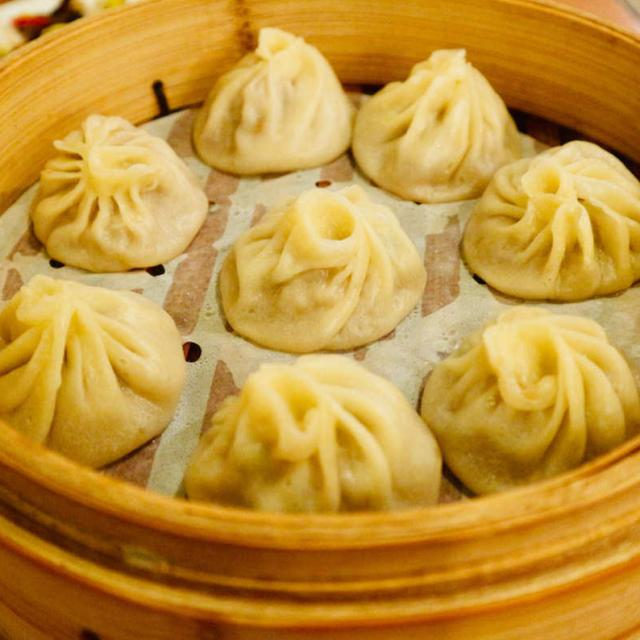momos: (42, 33, 634, 499)
